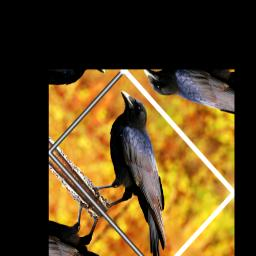Crow: (61, 84, 224, 256)
